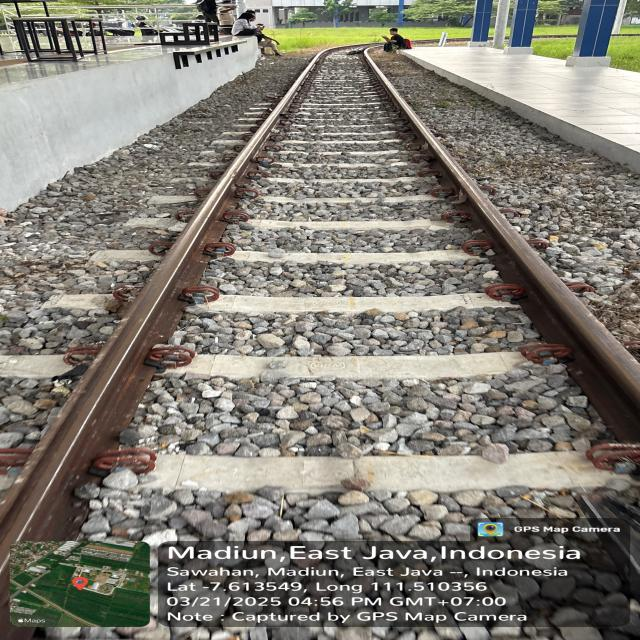rail-detection: (7, 51, 325, 540), (0, 109, 279, 640), (364, 48, 640, 439)
